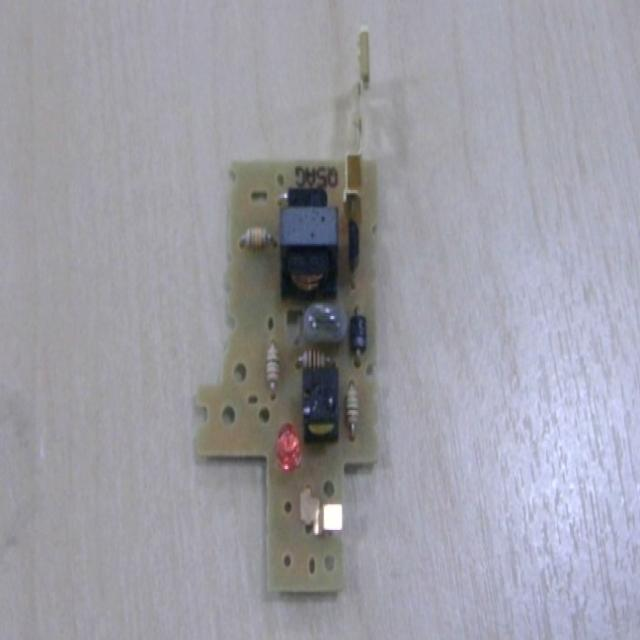019: (302, 369, 341, 443)
223: (303, 302, 347, 341)
DIODE: (349, 305, 367, 367)
LED: (274, 421, 303, 471)
R1: (264, 338, 284, 401)
R2: (292, 346, 337, 370)
R3: (344, 377, 362, 442)
R4: (237, 224, 278, 252)
TCE: (277, 188, 342, 298)
TRANSISTOR: (349, 220, 360, 280)
